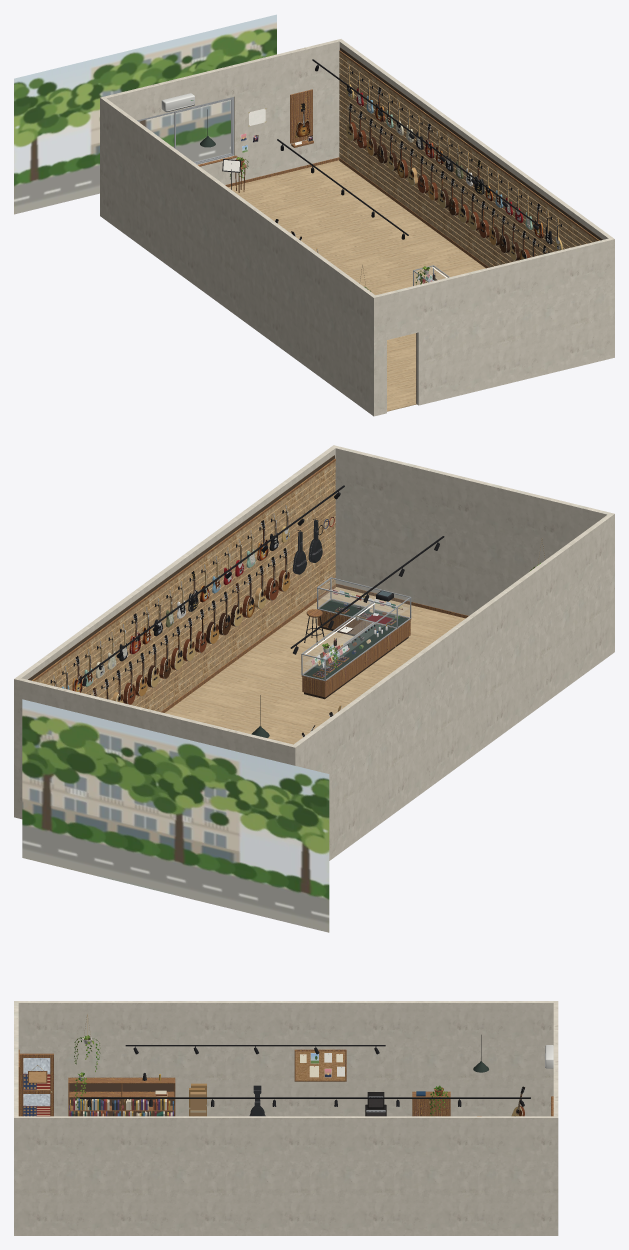
Rendered from tongxian.glb.
3 views of the same model, one above another, from view 1: azimuth 30°, elevation 25°; view 2: azimuth 150°, elevation 25°; view 3: azimuth 270°, elevation 25° (orthographic). The views are drawn at different scales.
Visible parts, largest first — view 1: WALL_left_plaster, WALL_front_plaster, WALL_back_props, tx_floor, WALL_right_slat, WALL_back_plaster, WALL_right_guitar, WALL_right_plaster, tx_metal, WALL_back_wood, WALL_right_wood, WALL_right_vc (+1 smaller); view 2: WALL_back_props, WALL_left_plaster, WALL_front_plaster, WALL_right_slat, tx_floor, WALL_right_guitar, WALL_back_plaster, WALL_right_plaster, tx_metal, tx_glass, tx_wood, tx_props (+4 smaller); view 3: WALL_right_plaster, WALL_left_plaster, WALL_left_wood, WALL_left_vc, tx_metal, WALL_left_props, WALL_back_plaster, WALL_front_props, WALL_front_plaster, WALL_front_wood, tx_vc, tx_leaf.
Boxes of the visible parts, left/top/right/bottom form: WALL_left_plaster: left=102, top=98, right=374, bottom=414; WALL_front_plaster: left=371, top=237, right=614, bottom=416; WALL_back_props: left=14, top=14, right=312, bottom=214; tx_floor: left=228, top=160, right=485, bottom=411; WALL_right_slat: left=339, top=52, right=596, bottom=267; WALL_back_plaster: left=100, top=39, right=342, bottom=217; WALL_right_guitar: left=346, top=65, right=562, bottom=260; WALL_right_plaster: left=339, top=40, right=612, bottom=239; tx_metal: left=200, top=59, right=539, bottom=285; WALL_back_wood: left=198, top=89, right=339, bottom=187; WALL_right_wood: left=339, top=50, right=599, bottom=268; WALL_right_vc: left=340, top=47, right=602, bottom=240; WALL_back_props: left=22, top=699, right=329, bottom=932; WALL_left_plaster: left=294, top=514, right=612, bottom=860; WALL_front_plaster: left=331, top=445, right=614, bottom=653; WALL_right_slat: left=34, top=461, right=335, bottom=711; tx_floor: left=165, top=587, right=465, bottom=744; WALL_right_guitar: left=42, top=503, right=290, bottom=704; WALL_back_plaster: left=14, top=677, right=297, bottom=819; WALL_right_plaster: left=17, top=447, right=335, bottom=679; tx_metal: left=79, top=485, right=444, bottom=737; tx_glass: left=303, top=579, right=409, bottom=673; tx_wood: left=301, top=599, right=411, bottom=697; tx_props: left=304, top=589, right=408, bottom=679; WALL_right_plaster: left=18, top=1116, right=553, bottom=1235; WALL_left_plaster: left=18, top=1001, right=553, bottom=1116; WALL_left_wood: left=68, top=1049, right=450, bottom=1116; WALL_left_vc: left=69, top=1054, right=443, bottom=1116; tx_metal: left=79, top=1045, right=530, bottom=1112; WALL_left_props: left=249, top=1051, right=345, bottom=1116; WALL_back_plaster: left=553, top=1001, right=558, bottom=1235; WALL_front_props: left=23, top=1058, right=50, bottom=1116; WALL_front_plaster: left=14, top=1001, right=18, bottom=1235; WALL_front_wood: left=18, top=1049, right=53, bottom=1116; tx_vc: left=82, top=1014, right=523, bottom=1116; tx_leaf: left=74, top=1035, right=448, bottom=1116.
Bounding box in the file's own units: 8.97 × 3.9 × 15.72.
12 materials, 7 textured.
